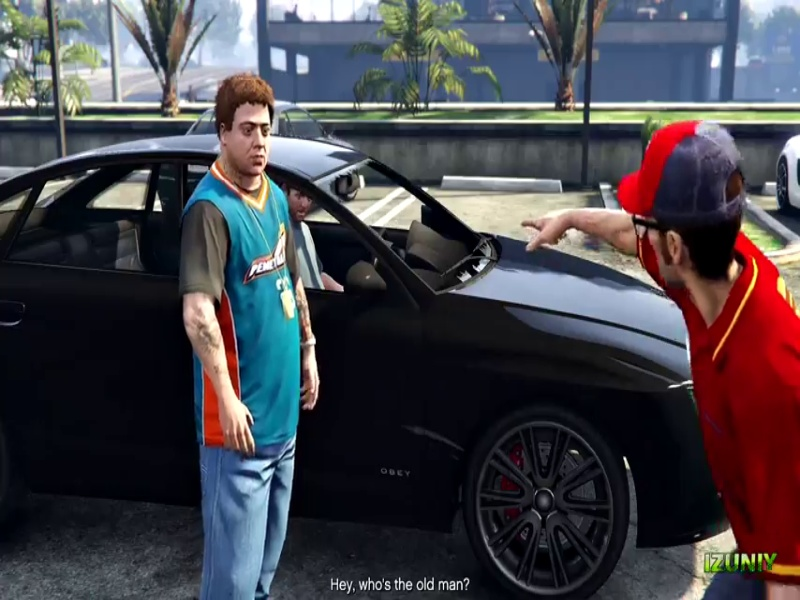human: (193, 68, 342, 594)
